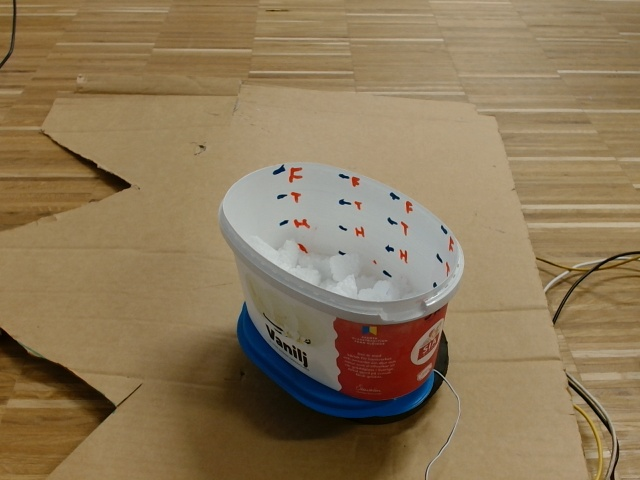Big_quarter: (216, 159, 468, 323)
